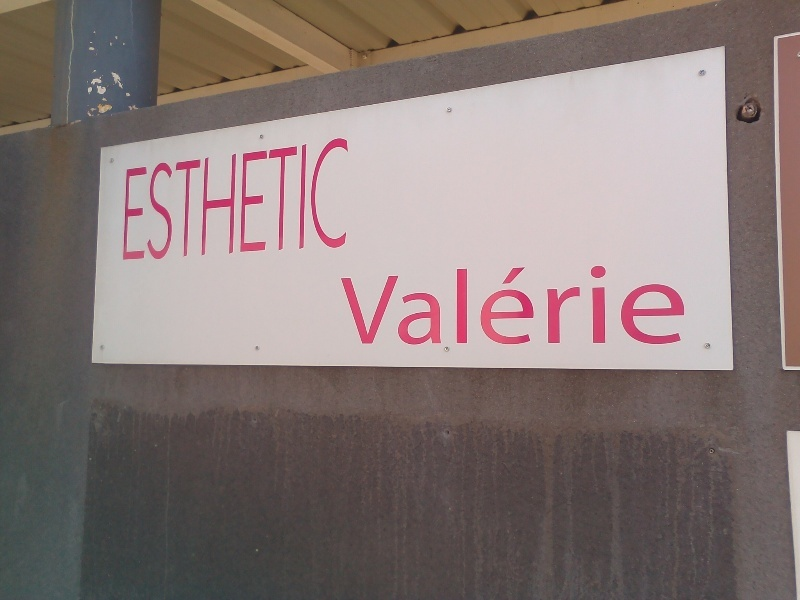text: (337, 135, 353, 263), (129, 135, 144, 263), (145, 135, 160, 263), (161, 135, 176, 263), (177, 135, 192, 263), (193, 135, 208, 263), (209, 135, 224, 263), (225, 135, 240, 263), (241, 135, 256, 263), (257, 135, 272, 263), (273, 135, 288, 263), (289, 135, 304, 263), (305, 135, 320, 263), (321, 135, 336, 263), (353, 255, 368, 348), (369, 255, 384, 348), (385, 255, 400, 348), (401, 255, 416, 348), (417, 255, 432, 348), (433, 255, 448, 348), (449, 255, 464, 348), (465, 255, 480, 348), (481, 255, 496, 348), (497, 255, 512, 348), (513, 255, 528, 348), (529, 255, 544, 348), (545, 255, 560, 348), (561, 255, 576, 348), (577, 255, 592, 348), (593, 255, 608, 348), (609, 255, 624, 348), (625, 255, 640, 348), (641, 255, 656, 348), (657, 255, 672, 348), (673, 255, 688, 348), (338, 255, 352, 348), (124, 135, 128, 263)
